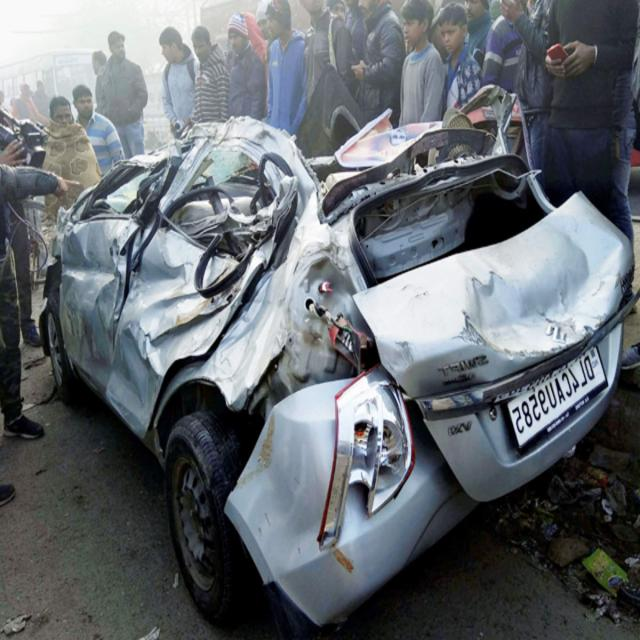accident: (40, 88, 635, 640)
